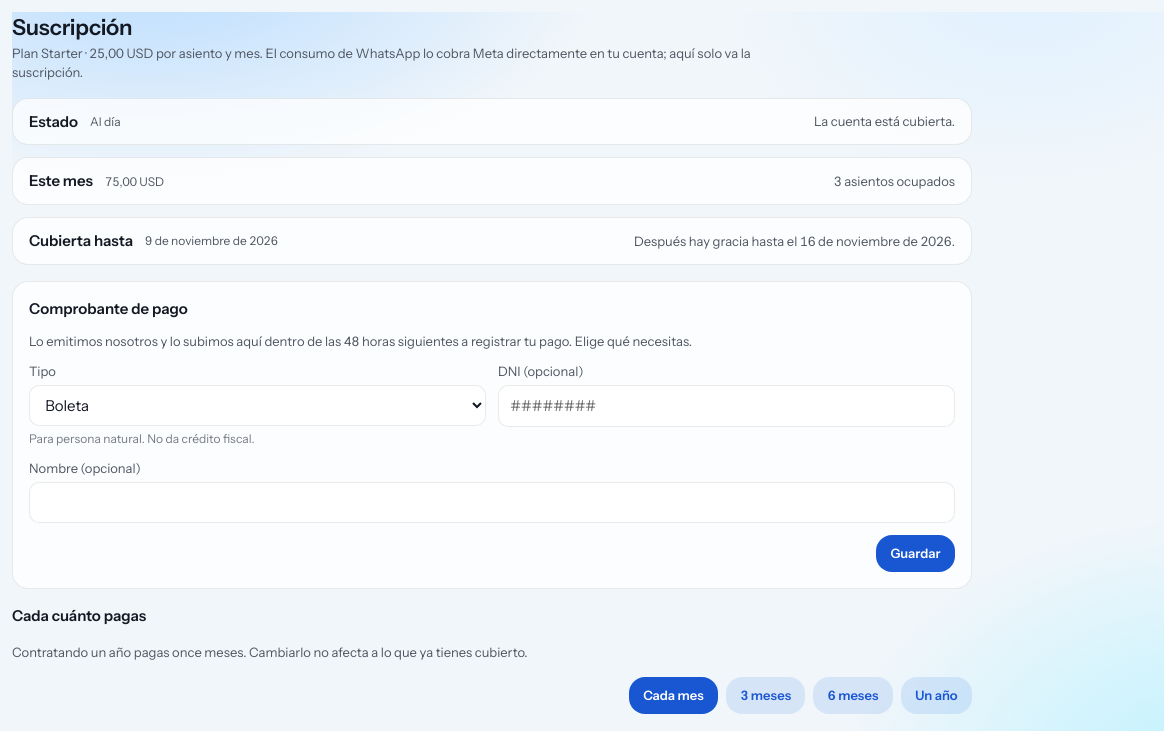
Test: Suscripción · comprobantes › el campo del documento solo admite dígitos
Type "12a34b5678" into the field labelled "DNI (opcional)" at (726,406), box [498,385,955,427]
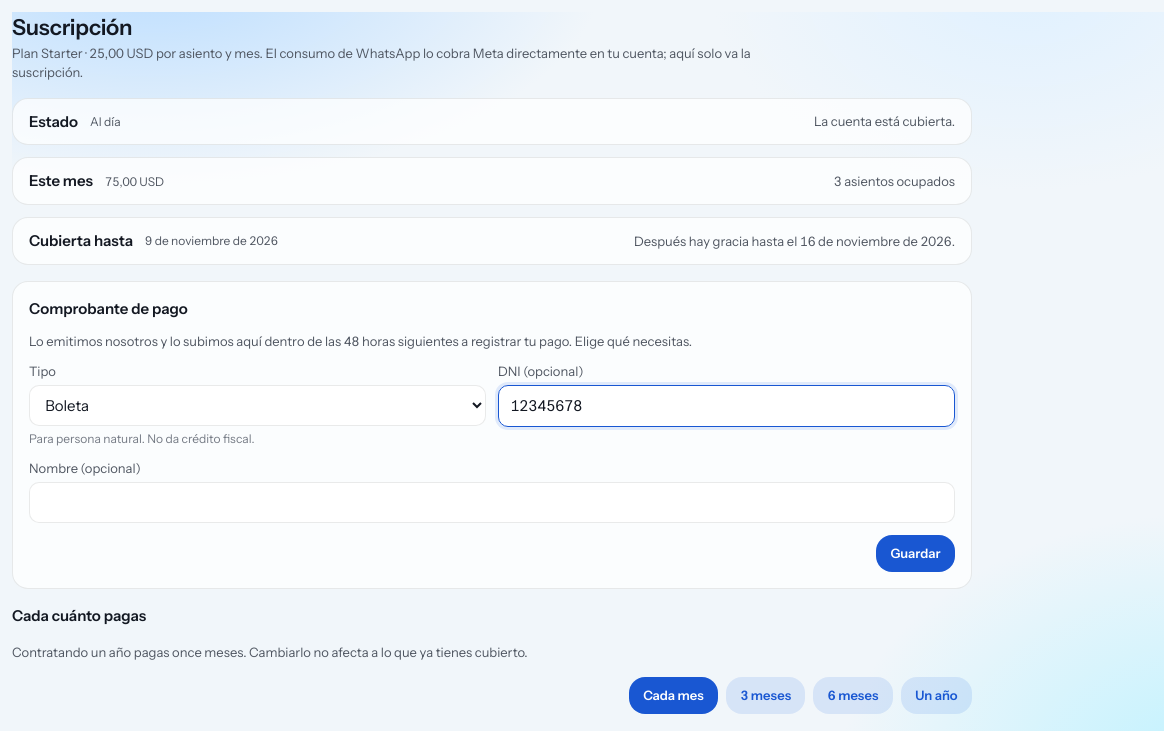
Now the field labelled "DNI (opcional)" holds "12345678", box [498,385,955,427]
